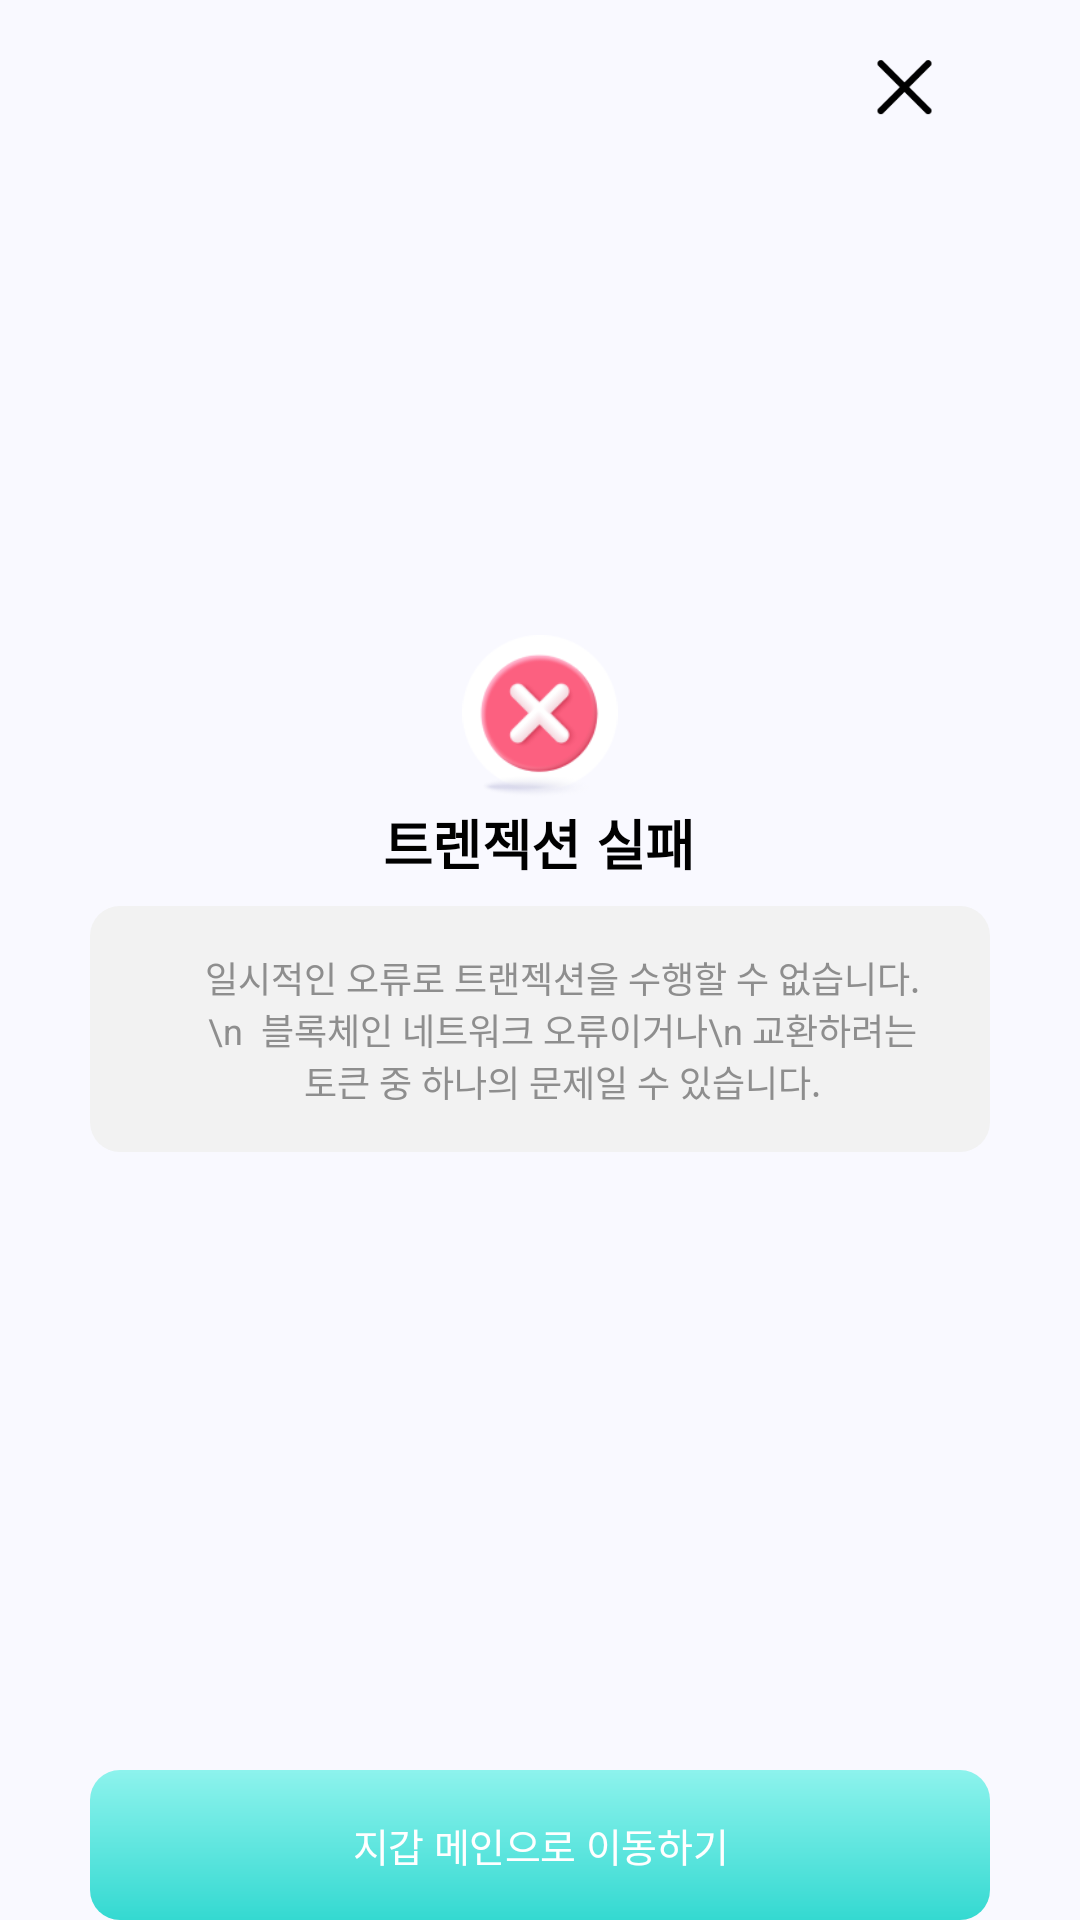

Where to tap for icons on this 1080w x 1920h app screen, as [x,y]:
multiply: [904,87]
